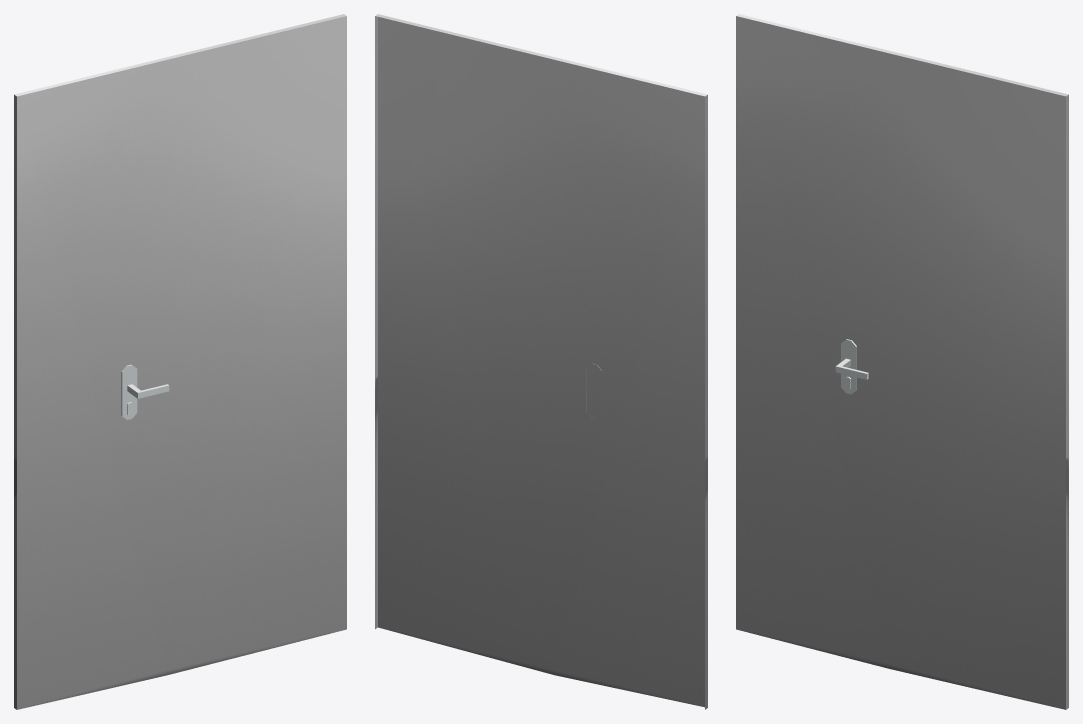
Rendered from corid_rele.fbx.
The picture shows the model from 3 angles, left to right: view 1: azimuth 30°, elevation 25°; view 2: azimuth 150°, elevation 25°; view 3: azimuth 330°, elevation 25°; orthographic projection.
Visible parts, largest first — view 1: corid_rele; view 2: corid_rele; view 3: corid_rele.
Boxes of the visible parts, left/top/right/bottom form: corid_rele: left=14, top=14, right=346, bottom=709; corid_rele: left=375, top=14, right=707, bottom=709; corid_rele: left=736, top=14, right=1068, bottom=709.
Size of the model in its own units: 1.16 by 2.07 by 0.082.
